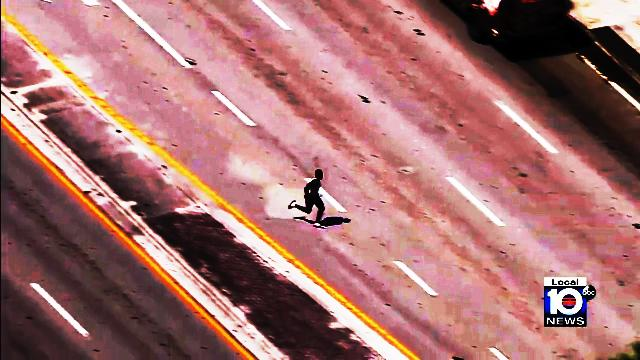berlari: (288, 166, 329, 228)
